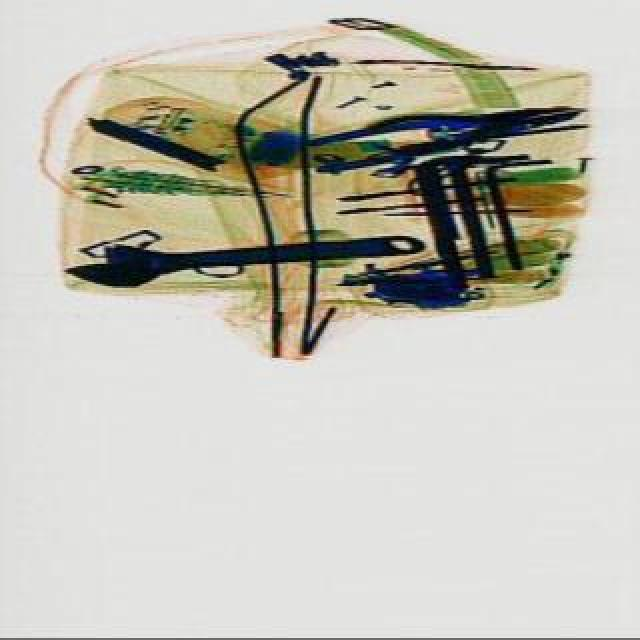scissors: (58, 222, 422, 290)
wrench: (366, 82, 588, 164)
